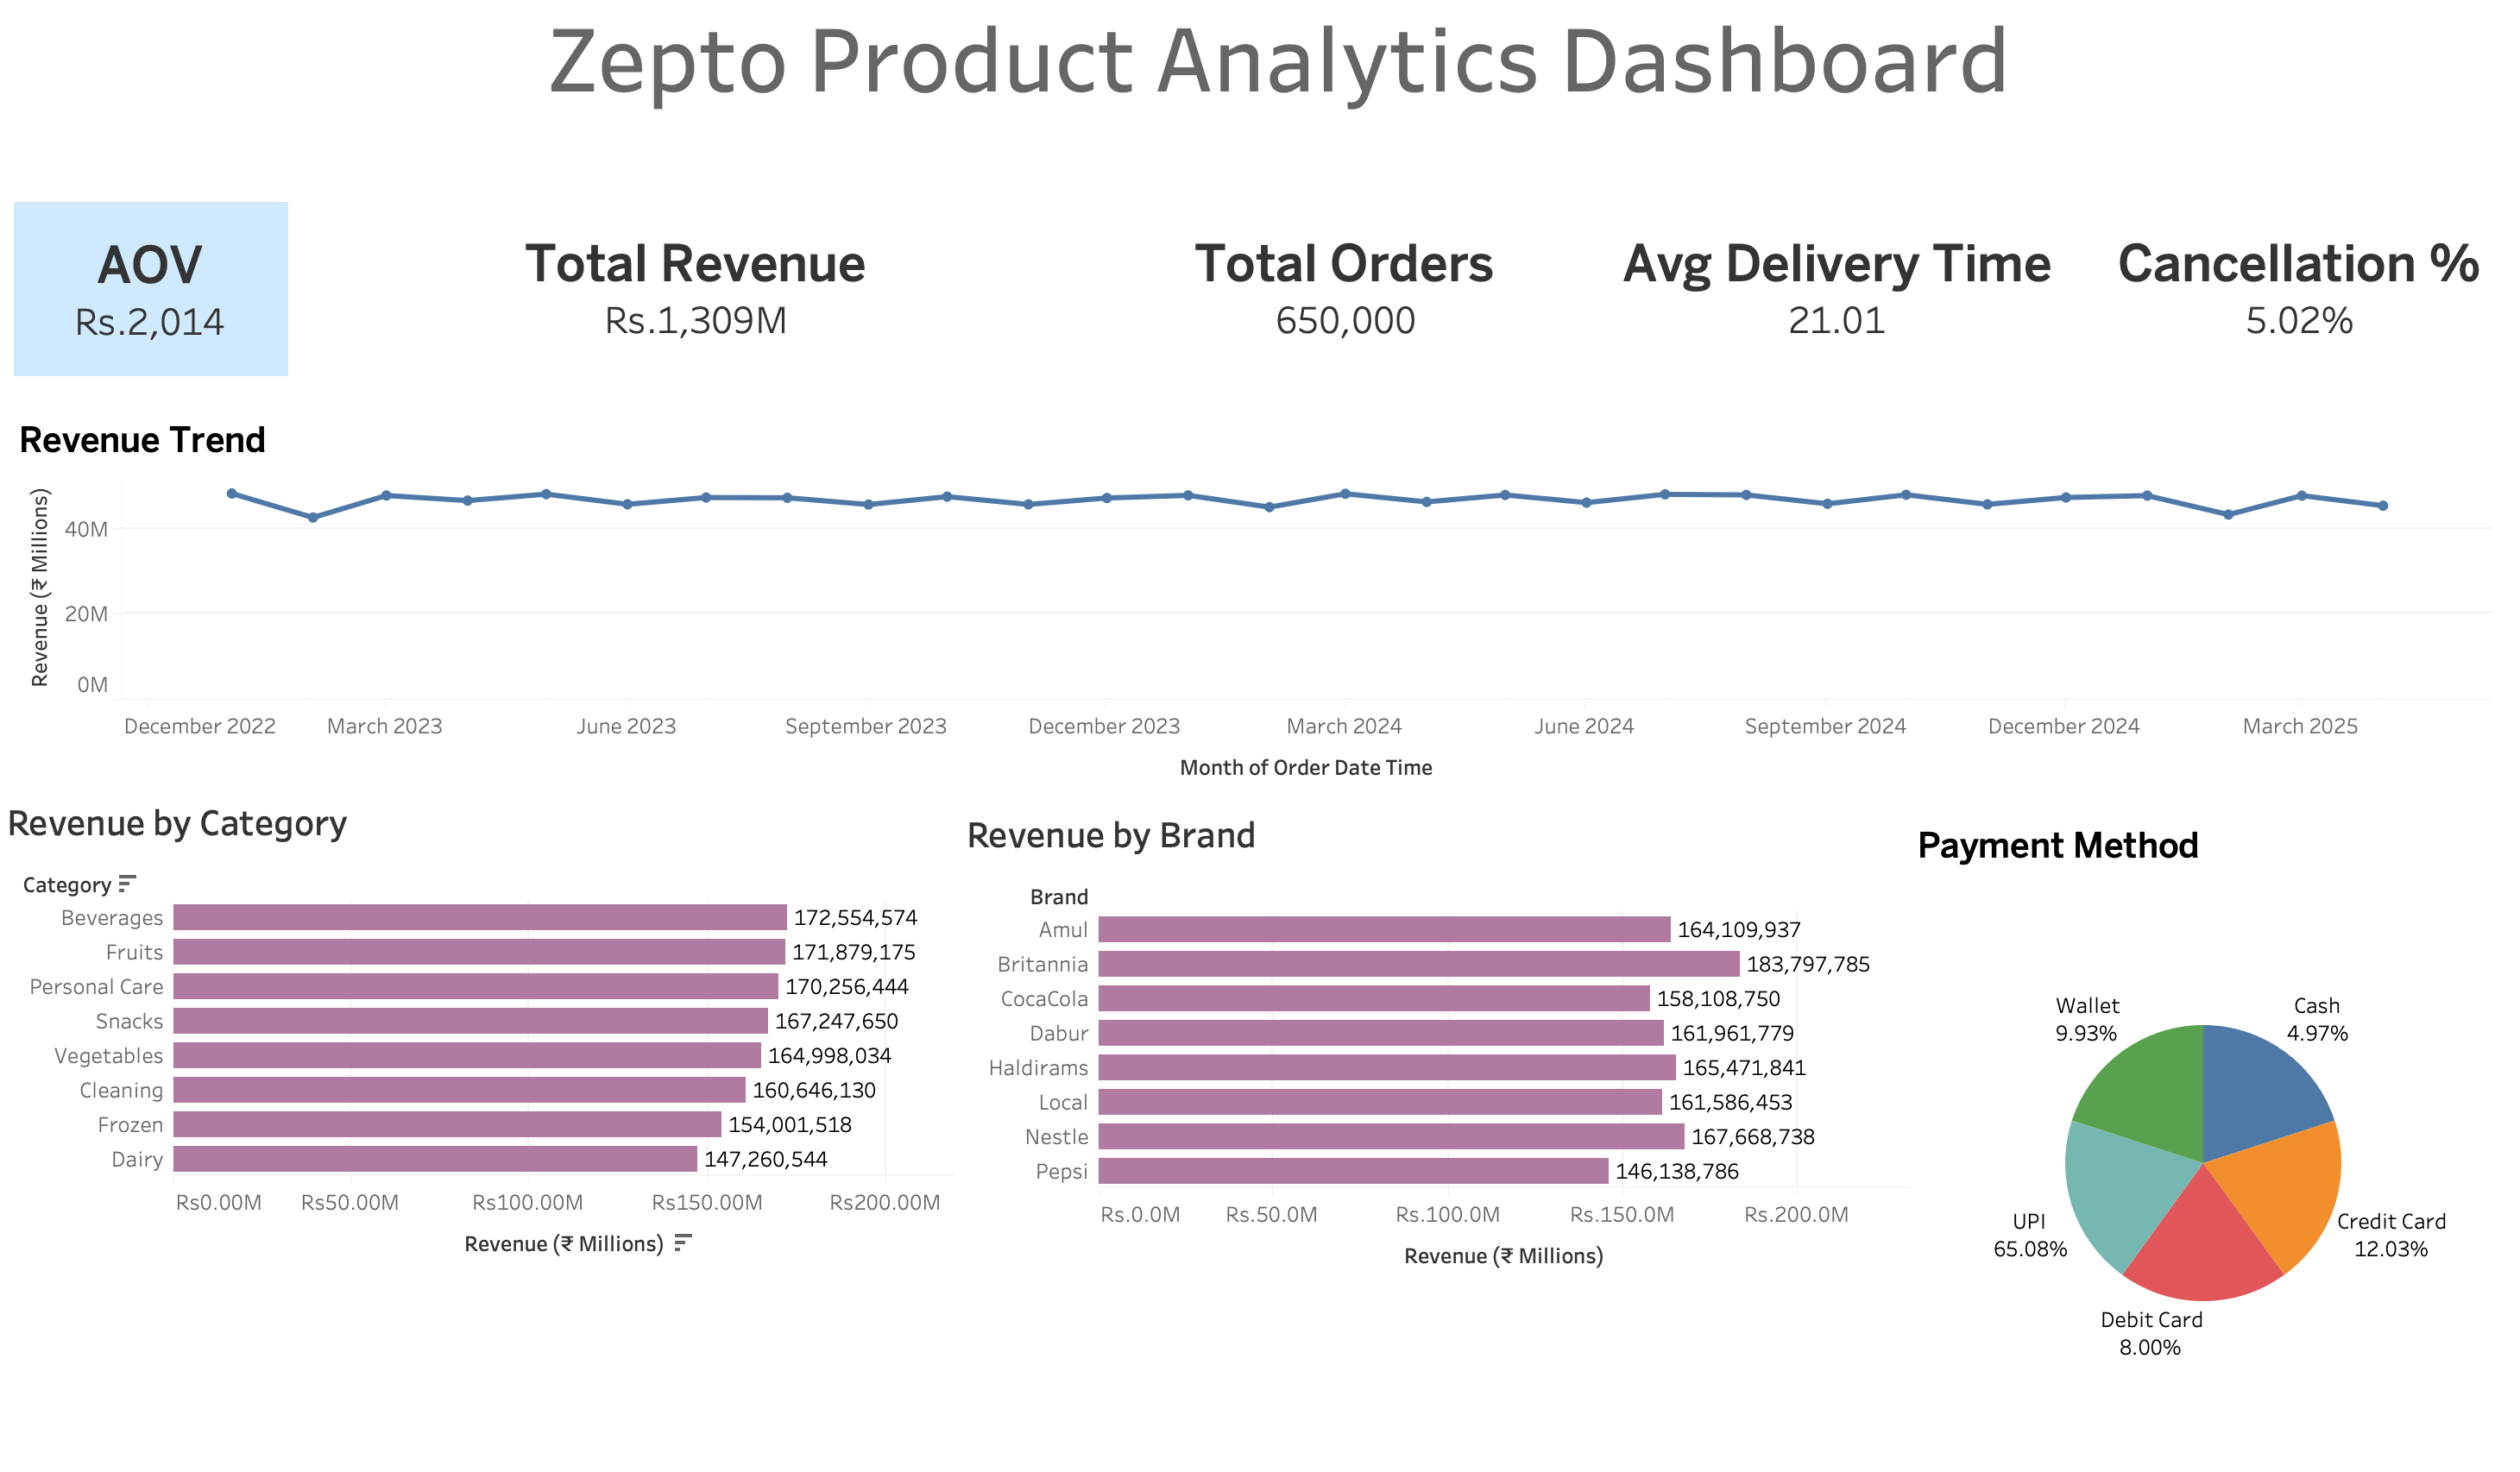

The page's visual inventory and layout, read from the dashboard file:
{"tool":"tableau","page":{"name":"Dashboard 2","canvas":[1000,1000],"units":"permille","ordinal":1},"visuals":[{"type":"text","box":[26.2,4.2,959.5,80.3]},{"type":"worksheet","title":"Sheet 1 (3)","mark":"Text","box":[4.8,118.3,132.6,139.4]},{"type":"worksheet","title":"Sheet 1","mark":"Text","box":[137.4,118.3,205,139.4]},{"type":"worksheet","title":"Sheet 1 (2)","mark":"Text","box":[342.4,118.3,227.2,139.4]},{"type":"worksheet","title":"Sheet 1 (4)","mark":"Text","box":[569.5,118.3,225.6,139.4]},{"type":"worksheet","title":"Sheet 1 (5)","mark":"Text","box":[795.1,118.3,197.8,139.4]},{"type":"worksheet","title":"Sheet 6","mark":"Line","rows":["NetAmount"],"cols":["OrderDateTime"],"box":[4,271.8,983.3,256.3]},{"type":"worksheet","title":"Sheet 8","mark":"Bar","rows":["Brand"],"cols":["NetAmount"],"box":[377.3,525.4,380.5,445.1]},{"type":"worksheet","title":"Sheet 10","mark":"Pie","box":[752.2,533.8,235.9,412.7]}]}

Visuals, with their boxes on the dashboard's canvas, which has no fixed pixel size, in thousandths of its width and height (x1, y1, x2, y2). These are canvas units, not pixel positions in the 2520x1472 screenshot, which may show the page scaled, cropped or inside an application window:
text: box(26, 4, 986, 84)
"Sheet 1 (3)" worksheet (Text marks): box(5, 118, 137, 258)
"Sheet 1" worksheet (Text marks): box(137, 118, 342, 258)
"Sheet 1 (2)" worksheet (Text marks): box(342, 118, 570, 258)
"Sheet 1 (4)" worksheet (Text marks): box(570, 118, 795, 258)
"Sheet 1 (5)" worksheet (Text marks): box(795, 118, 993, 258)
"Sheet 6" worksheet (Line marks): box(4, 272, 987, 528)
"Sheet 8" worksheet (Bar marks): box(377, 525, 758, 970)
"Sheet 10" worksheet (Pie marks): box(752, 534, 988, 946)
